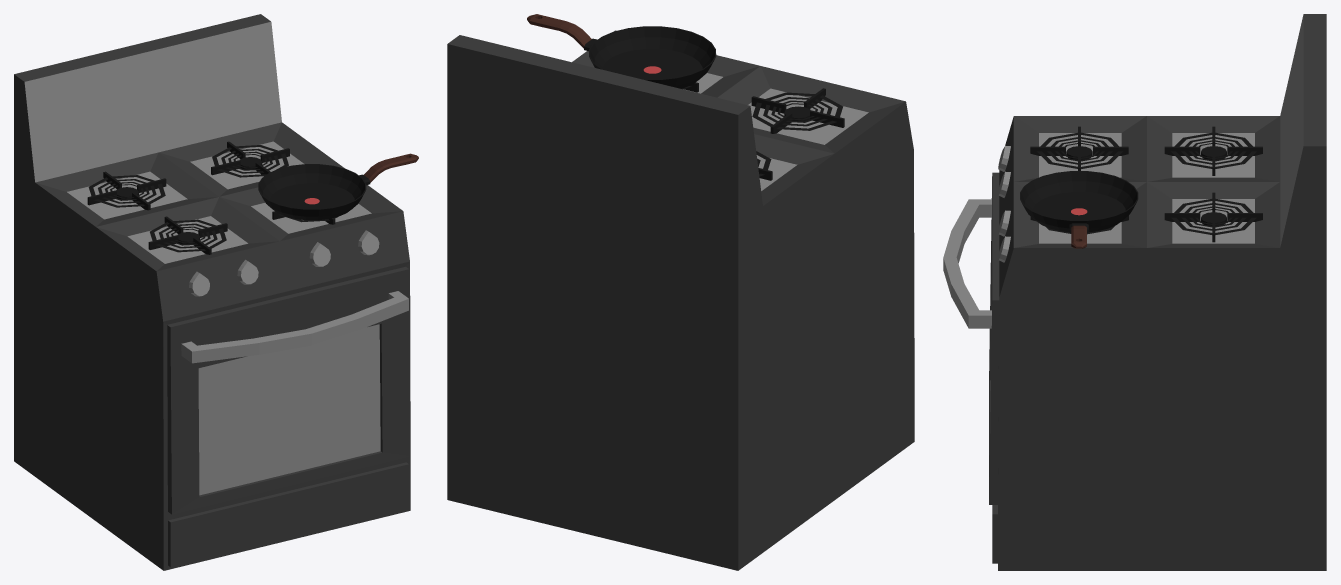
The model's file is Kitchen Stove.fbx.
The picture shows the model from 3 angles, left to right: view 1: azimuth 30°, elevation 25°; view 2: azimuth 150°, elevation 25°; view 3: azimuth 270°, elevation 25°; orthographic projection. The views are drawn at different scales.
Visible parts, largest first — view 1: Kitchen Stove; view 2: Kitchen Stove; view 3: Kitchen Stove.
Part boxes in pixels (x1=…): Kitchen Stove: x1=14, y1=14, x2=418, y2=570; Kitchen Stove: x1=447, y1=14, x2=914, y2=570; Kitchen Stove: x1=943, y1=14, x2=1326, y2=570.
Bounding box in the file's own units: 106 × 135 × 110.
